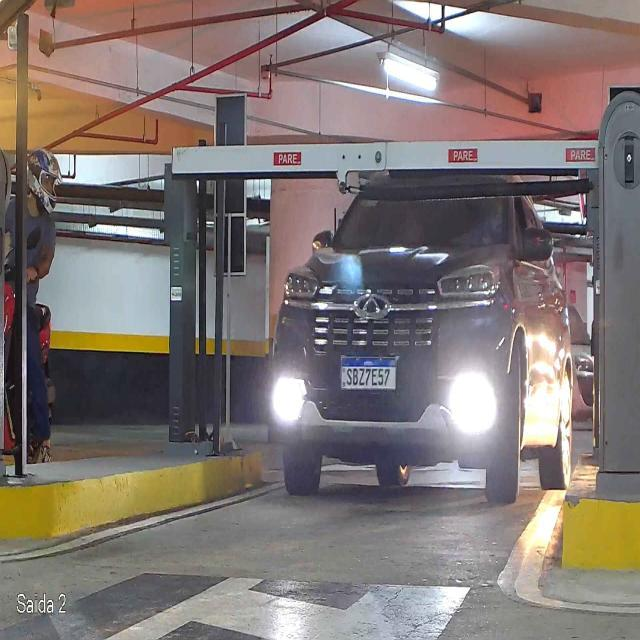mercosul_plate: (339, 356, 399, 393)
